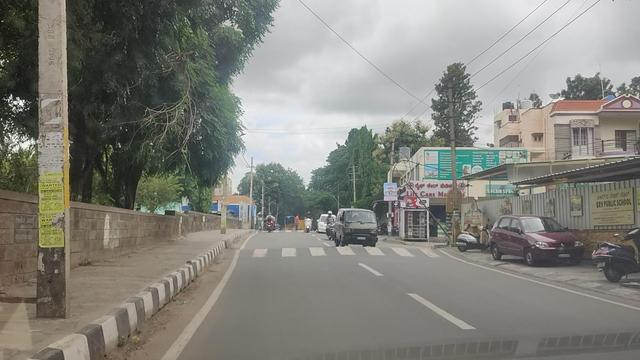LMV: (336, 208, 377, 246)
SpeedBump: (232, 247, 438, 259)
